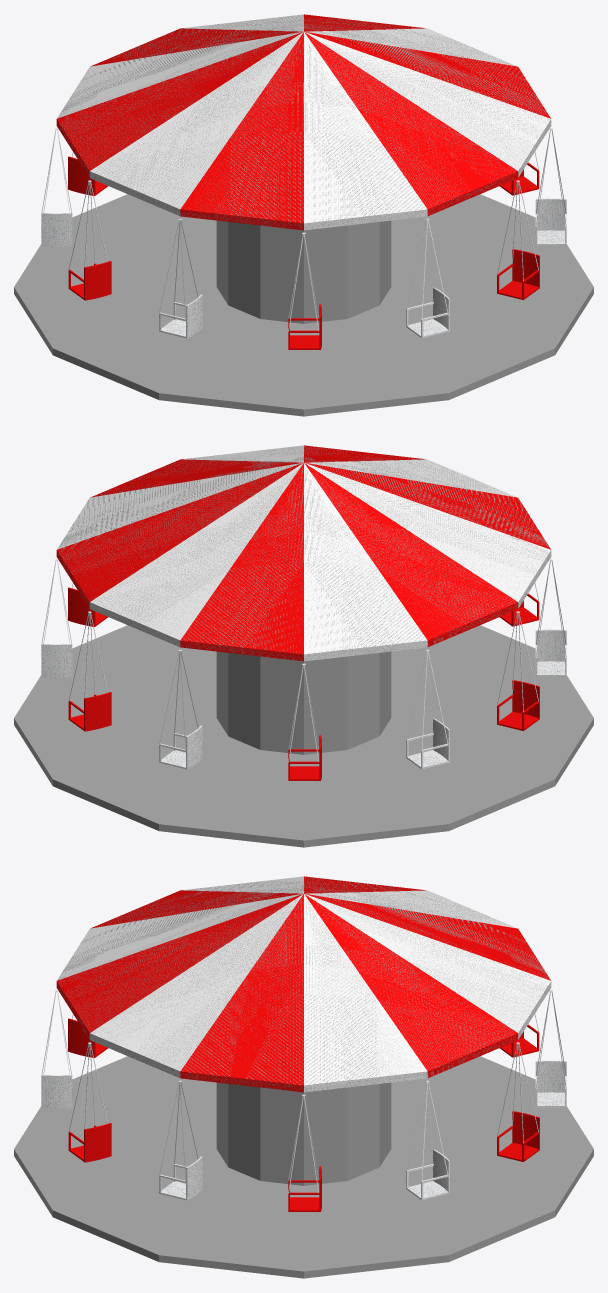
File: swing_ride.dae
3 renders of one model, top to bottom at view 1: azimuth 30°, elevation 25°; view 2: azimuth 150°, elevation 25°; view 3: azimuth 270°, elevation 25°, orthographic.
Parts seen in each view (by area): view 1: group_42 (×14), group_17 (×4), group_39, group_28, group_22, group_33, group_12; view 2: group_42 (×14), group_17 (×4), group_28, group_7, group_12, group_22, group_33; view 3: group_42 (×14), group_17 (×4), group_7, group_39, group_33, group_12, group_22.
Part boxes in pixels (bbox=[...]): group_42 (×14): bbox=[14, 14, 593, 416]; group_17 (×4): bbox=[41, 198, 566, 338]; group_39: bbox=[497, 249, 539, 299]; group_28: bbox=[68, 261, 111, 300]; group_22: bbox=[68, 156, 108, 195]; group_33: bbox=[288, 304, 321, 349]; group_12: bbox=[499, 162, 539, 195]; group_42 (×14): bbox=[14, 445, 593, 847]; group_17 (×4): bbox=[41, 629, 566, 769]; group_28: bbox=[497, 680, 539, 730]; group_7: bbox=[68, 692, 111, 731]; group_12: bbox=[68, 587, 108, 626]; group_22: bbox=[288, 735, 321, 780]; group_33: bbox=[499, 593, 539, 626]; group_42 (×14): bbox=[14, 876, 593, 1278]; group_17 (×4): bbox=[41, 1060, 566, 1200]; group_7: bbox=[497, 1111, 539, 1161]; group_39: bbox=[68, 1123, 111, 1162]; group_33: bbox=[68, 1018, 108, 1057]; group_12: bbox=[288, 1166, 321, 1211]; group_22: bbox=[499, 1024, 539, 1057].
Size of the model in its own units: 338 by 338 by 169.
